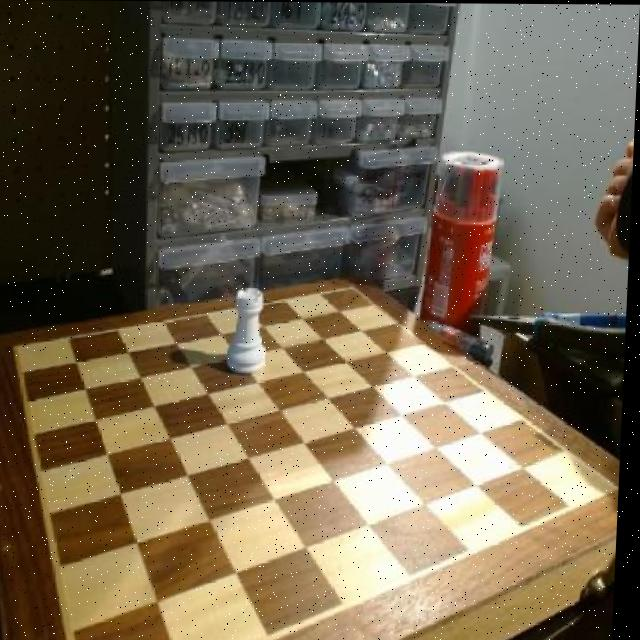white-queen: (229, 280, 281, 379)
